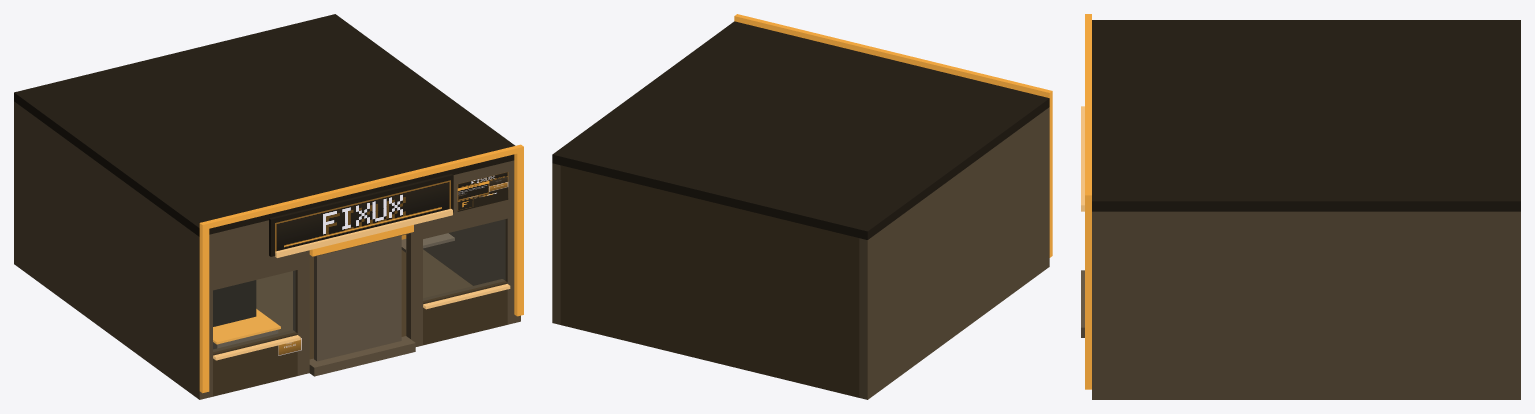
The model's file is plot.glb.
The picture shows the model from 3 angles, left to right: view 1: azimuth 30°, elevation 25°; view 2: azimuth 150°, elevation 25°; view 3: azimuth 270°, elevation 25°; orthographic projection. The views are drawn at different scales.
Visible parts, largest first — view 1: facade, neon, sign_1, door_panel_L, door_panel_R, pic_1, lintel; view 2: facade, neon; view 3: facade, neon.
Boxes of the visible parts, x1=… form: facade: x1=14, y1=14, x2=520, y2=399; neon: x1=199, y1=144, x2=523, y2=393; sign_1: x1=275, y1=180, x2=450, y2=252; door_panel_L: x1=314, y1=246, x2=359, y2=361; door_panel_R: x1=359, y1=235, x2=401, y2=350; pic_1: x1=457, y1=172, x2=508, y2=211; lintel: x1=309, y1=225, x2=413, y2=256; facade: x1=552, y1=21, x2=1049, y2=399; neon: x1=734, y1=14, x2=1052, y2=257; facade: x1=1081, y1=20, x2=1520, y2=399; neon: x1=1081, y1=14, x2=1091, y2=389.
Size of the model in its own units: 9.5 by 5 by 9.74.
4 materials, 3 textured.
